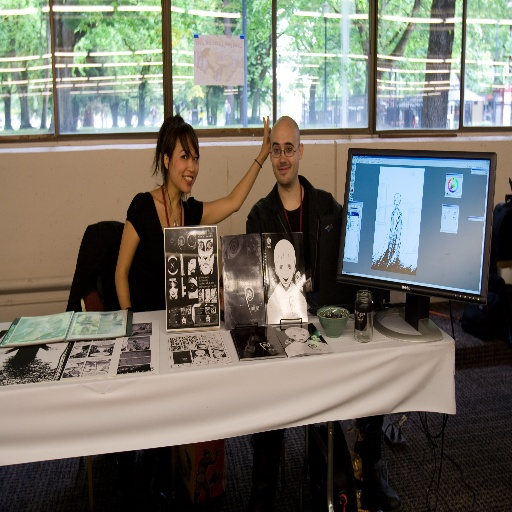hand: (261, 112, 272, 158)
